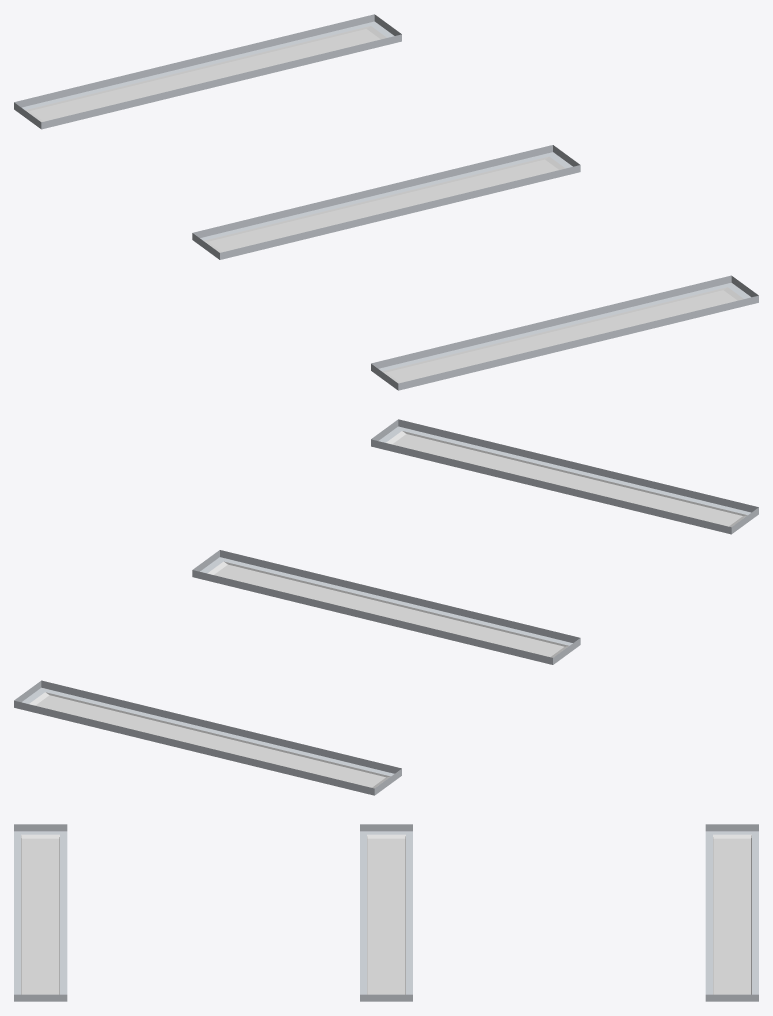
Rendered from f_ceiling_lamps.fbx.
3 renders of one model, top to bottom at view 1: azimuth 30°, elevation 25°; view 2: azimuth 150°, elevation 25°; view 3: azimuth 270°, elevation 25°, orthographic. The views are drawn at different scales.
Parts seen in each view (by area): view 1: f_ceiling_lamps; view 2: f_ceiling_lamps; view 3: f_ceiling_lamps.
Boxes of the visible parts, x1,y1,x2,y2 form: f_ceiling_lamps: (14, 14, 758, 390); f_ceiling_lamps: (14, 419, 758, 795); f_ceiling_lamps: (14, 824, 758, 1001).
Bounding box in the file's own units: 593 × 321 × 7.59.
